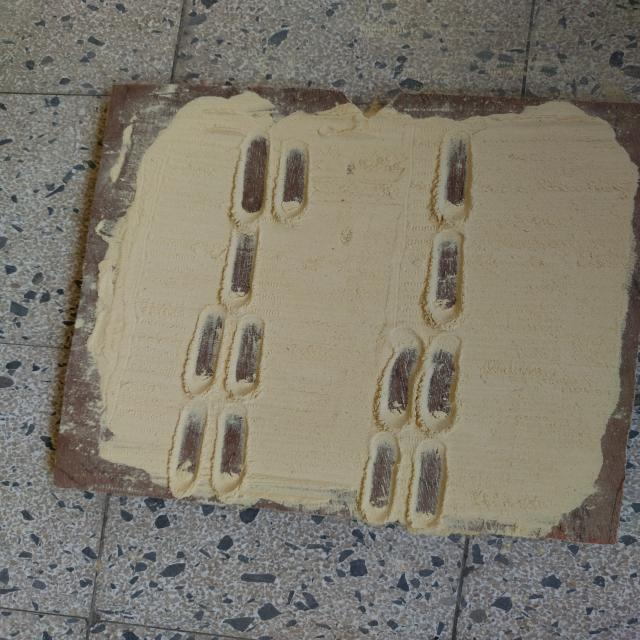double: (370, 324, 466, 438), (358, 437, 457, 530), (164, 400, 255, 500), (181, 306, 271, 400), (230, 129, 312, 225)
single: (426, 124, 482, 230), (420, 227, 470, 331), (215, 224, 262, 306)
